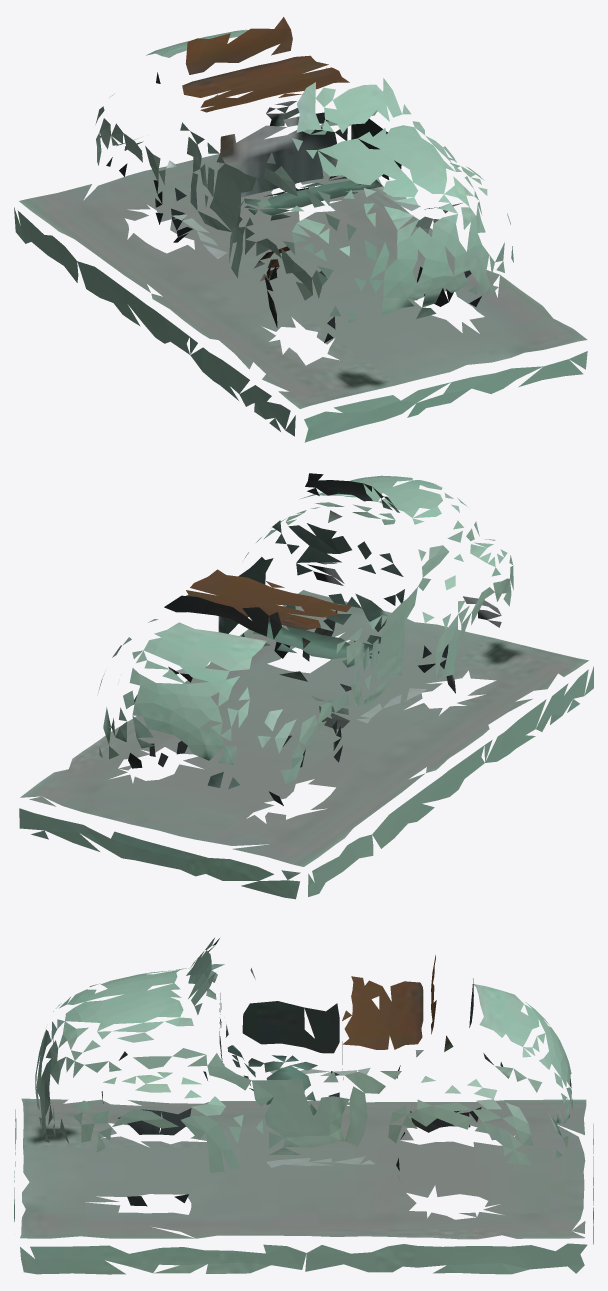
File: toy-car.glb
The picture shows the model from 3 angles, top to bottom: view 1: azimuth 30°, elevation 25°; view 2: azimuth 150°, elevation 25°; view 3: azimuth 270°, elevation 25°; orthographic projection.
Visible parts, largest first — view 1: ride_car; view 2: ride_car; view 3: ride_car.
Boxes of the visible parts, x1=… form: ride_car: x1=14, y1=17, x2=587, y2=442; ride_car: x1=19, y1=473, x2=593, y2=899; ride_car: x1=14, y1=938, x2=593, y2=1274.
Size of the model in its own units: 0.5884 by 0.4969 by 0.9917.
Materials: 1 (1 with a texture image).
